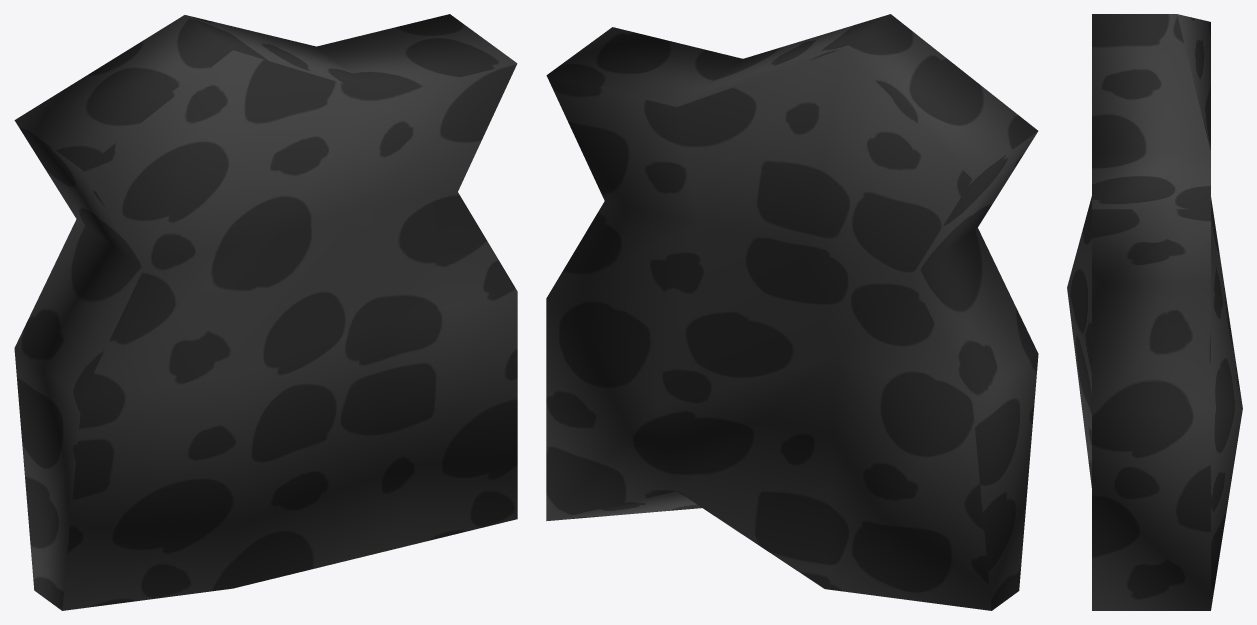
The model's file is item-bark-chip-rock.glb.
3 views of the same model, side by side, from view 1: azimuth 30°, elevation 25°; view 2: azimuth 150°, elevation 25°; view 3: azimuth 270°, elevation 25° (orthographic). The views are drawn at different scales.
Bounding box in the file's own units: 2 × 2.36 × 0.7938.
1 material, 1 textured.
